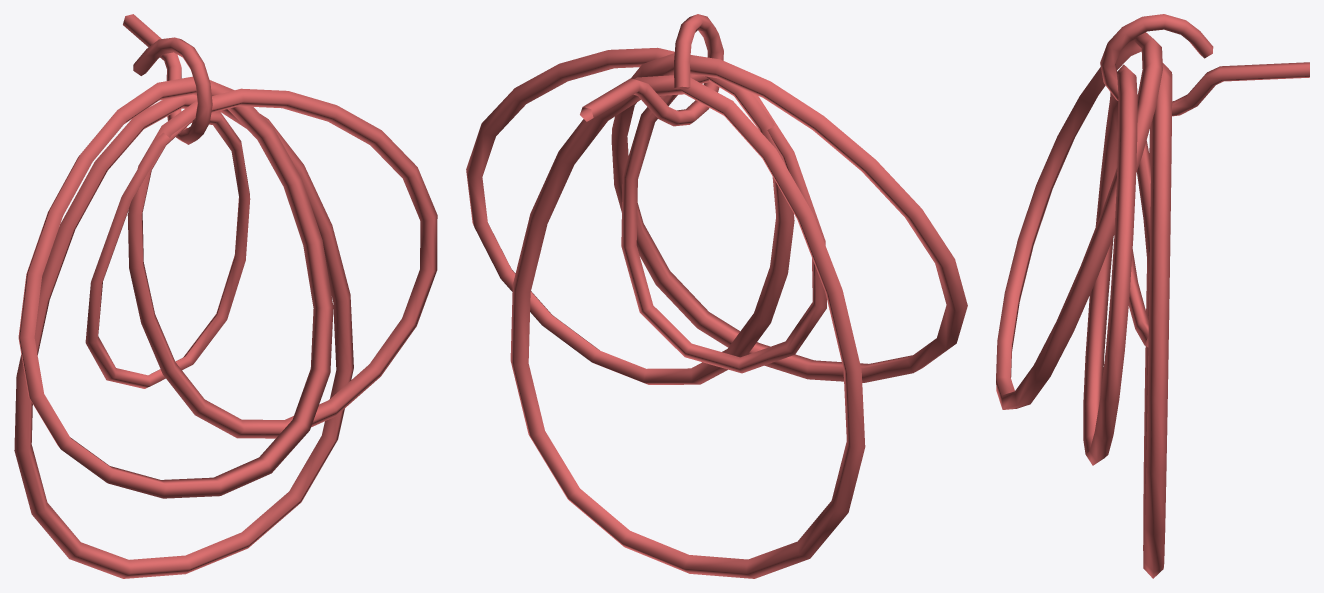
File: Wire_D_Snaps004.FBX
3 views of the same model, side by side, from view 1: azimuth 30°, elevation 25°; view 2: azimuth 150°, elevation 25°; view 3: azimuth 270°, elevation 25° (orthographic). The views are drawn at different scales.
Visible parts, largest first — view 1: Geometry_Wire_D_LOD00; view 2: Geometry_Wire_D_LOD00; view 3: Geometry_Wire_D_LOD00.
Boxes of the visible parts, x1,y1,x2,y2 form: Geometry_Wire_D_LOD00: [14, 14, 437, 578]; Geometry_Wire_D_LOD00: [466, 14, 967, 578]; Geometry_Wire_D_LOD00: [996, 14, 1309, 578].
Size of what is drawn, in the model's own units: 81.53 by 93.81 by 49.25.
